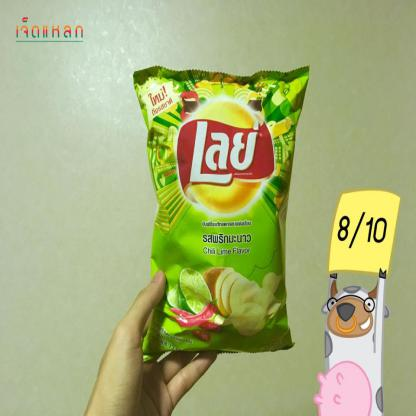potatochip: (126, 57, 313, 371)
